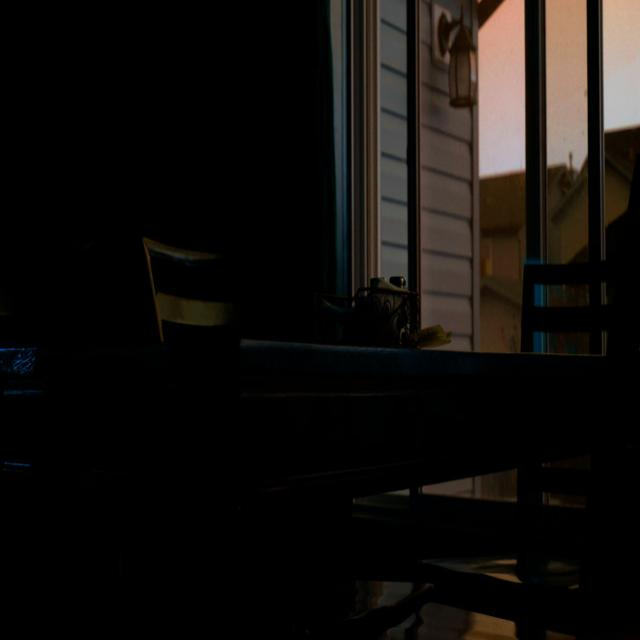Table: (218, 292, 640, 640)
chair: (112, 209, 250, 403), (509, 243, 634, 396)
